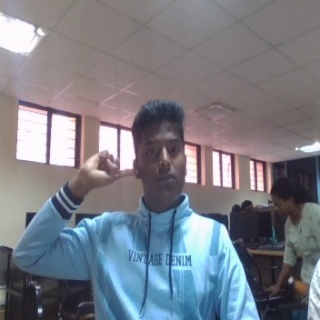Deaf: (76, 148, 139, 191)
Face: (131, 98, 189, 207)
